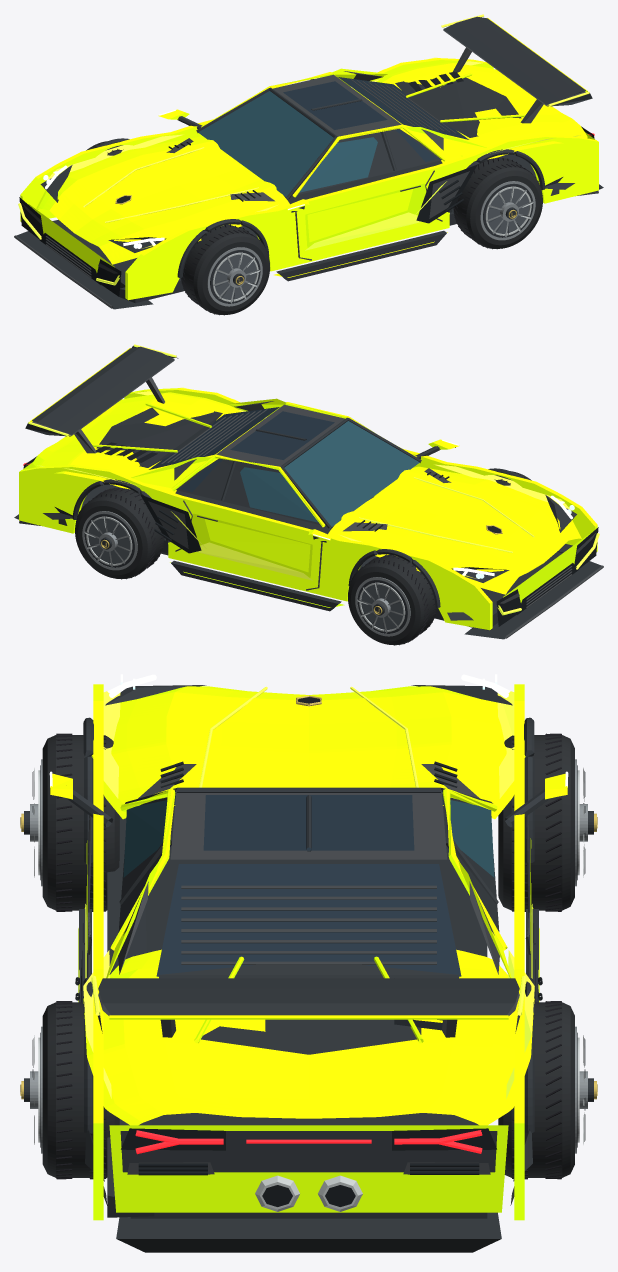
The model's file is lamborghini-ai.glb.
The picture shows the model from 3 angles, top to bottom: view 1: azimuth 30°, elevation 25°; view 2: azimuth 150°, elevation 25°; view 3: azimuth 270°, elevation 25°; orthographic projection. The views are drawn at different scales.
Parts seen in each view (by area): view 1: Body__Verde_Nova_Pearl, Body__Exposed_Carbon, Body__Smoked_Reflective_Glass, Body__Satin_Dark_Carbon, Body__Deep_Glass, Rear_Wing__Exposed_Carbon, Rear_Left_Wheel__Performance_Tire_Rubber, Front_Left_Wheel__Performance_Tire_Rubber, Body__Intake_Black, Body__Verde_Nova_Highlight, Body__Verde_Nova_Shadow, Front_Left_Wheel__Exposed_Carbon (+8 smaller); view 2: Body__Verde_Nova_Pearl, Body__Exposed_Carbon, Body__Smoked_Reflective_Glass, Body__Satin_Dark_Carbon, Body__Deep_Glass, Rear_Wing__Exposed_Carbon, Rear_Right_Wheel__Performance_Tire_Rubber, Front_Right_Wheel__Performance_Tire_Rubber, Body__Intake_Black, Body__Verde_Nova_Highlight, Body__Verde_Nova_Shadow, Front_Right_Wheel__Exposed_Carbon (+8 smaller); view 3: Body__Verde_Nova_Pearl, Body__Exposed_Carbon, Body__Deep_Glass, Body__Satin_Dark_Carbon, Body__Verde_Nova_Shadow, Rear_Wing__Exposed_Carbon, Front_Right_Wheel__Performance_Tire_Rubber, Front_Left_Wheel__Performance_Tire_Rubber, Rear_Left_Wheel__Performance_Tire_Rubber, Rear_Right_Wheel__Performance_Tire_Rubber, Body__Intake_Black, Body__Verde_Nova_Highlight (+13 smaller).
Boxes of the visible parts, x1,y1,x2,y2 form: Body__Verde_Nova_Pearl: (20,58,598,300); Body__Exposed_Carbon: (16,77,603,309); Body__Smoked_Reflective_Glass: (198,91,377,197); Body__Satin_Dark_Carbon: (14,71,598,308); Body__Deep_Glass: (283,77,468,212); Rear_Wing__Exposed_Carbon: (443,16,592,106); Rear_Left_Wheel__Performance_Tire_Rubber: (453,158,542,248); Front_Left_Wheel__Performance_Tire_Rubber: (181,224,269,314); Body__Intake_Black: (19,72,594,296); Body__Verde_Nova_Highlight: (18,57,580,285); Body__Verde_Nova_Shadow: (28,69,594,277); Front_Left_Wheel__Exposed_Carbon: (177,219,269,303); Body__Verde_Nova_Pearl: (19,388,597,630); Body__Exposed_Carbon: (14,407,601,639); Body__Smoked_Reflective_Glass: (240,421,419,527); Body__Satin_Dark_Carbon: (19,401,603,638); Body__Deep_Glass: (149,407,455,542); Rear_Wing__Exposed_Carbon: (25,345,178,436); Rear_Right_Wheel__Performance_Tire_Rubber: (75,488,164,578); Front_Right_Wheel__Performance_Tire_Rubber: (348,554,436,645); Body__Intake_Black: (23,442,598,626); Body__Verde_Nova_Highlight: (37,387,599,615); Body__Verde_Nova_Shadow: (23,399,589,607); Front_Right_Wheel__Exposed_Carbon: (348,549,440,633); Body__Verde_Nova_Pearl: (50,684,567,1220); Body__Exposed_Carbon: (66,685,550,1252); Body__Deep_Glass: (50,788,461,976); Body__Satin_Dark_Carbon: (80,764,537,1205); Body__Verde_Nova_Shadow: (78,838,539,1212); Rear_Wing__Exposed_Carbon: (98,978,519,1033); Front_Right_Wheel__Performance_Tire_Rubber: (498,735,574,910); Front_Left_Wheel__Performance_Tire_Rubber: (42,735,119,910); Rear_Left_Wheel__Performance_Tire_Rubber: (42,1002,119,1177); Rear_Right_Wheel__Performance_Tire_Rubber: (498,1002,574,1177); Body__Intake_Black: (75,697,542,1206); Body__Verde_Nova_Highlight: (79,686,538,1098).
Size of the model in its own units: 5.09 by 1.24 by 2.57.
